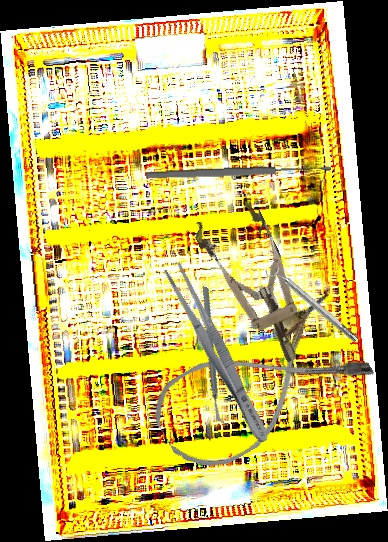Cannula: (142, 290, 377, 485)
Chopper: (164, 286, 264, 424)
Dressing Forceps: (160, 260, 276, 448)
Fixation Ring: (263, 258, 363, 349)
Speculum: (189, 196, 324, 376)
Surgical Spoon: (145, 163, 332, 181)
